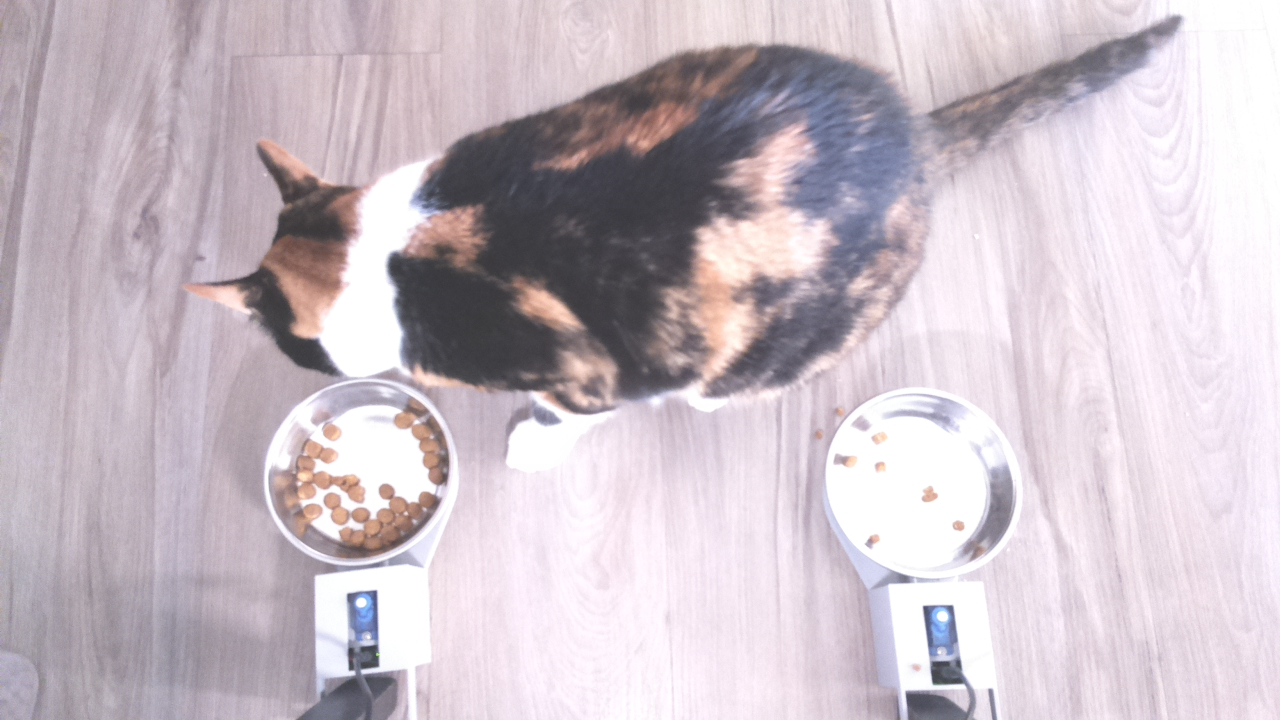bella: (179, 133, 476, 393)
open_bowl: (821, 382, 1028, 584), (258, 372, 459, 566)
